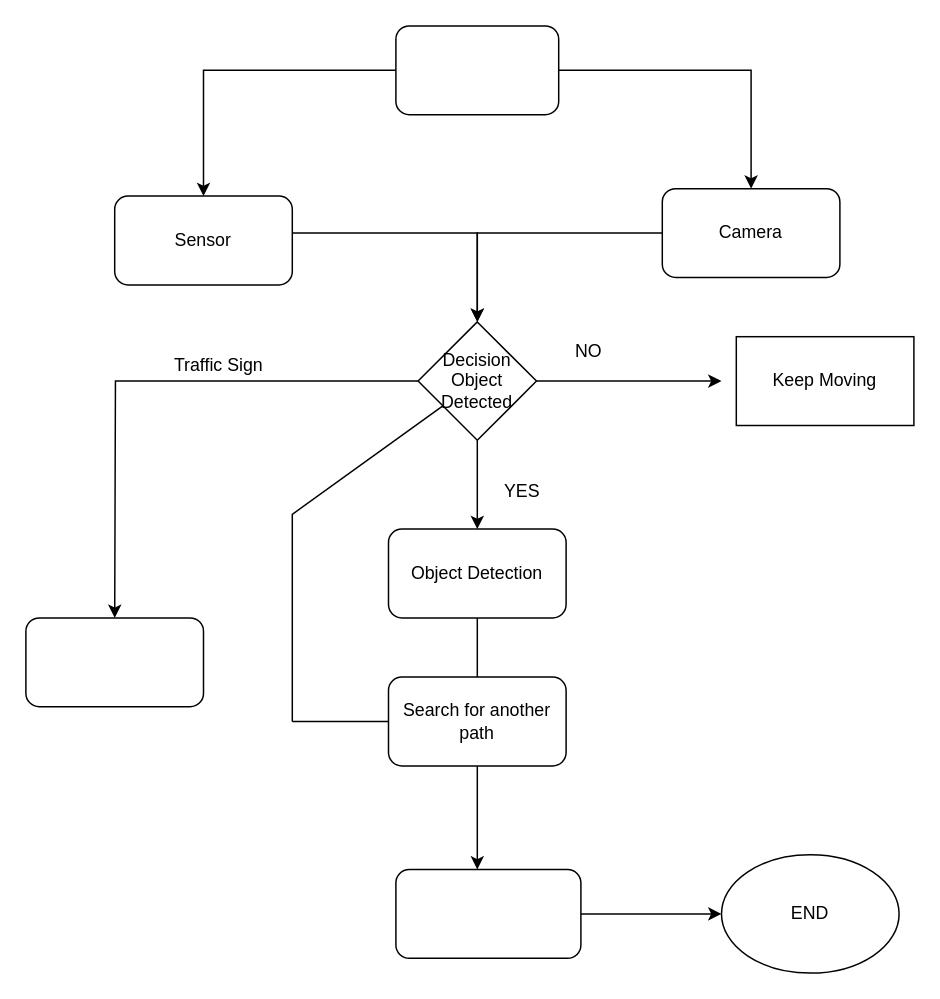
The diagram is 940 pixels wide and 999 high, and some of its shapes have lost their labels. Here are the shapes that lost their labels. From the top down, the centre of each, then its label:
At (476,69): "Start".
At (114,661): "Traffic Signs Detection".
At (487,913): "If no path exist or time to stop".
